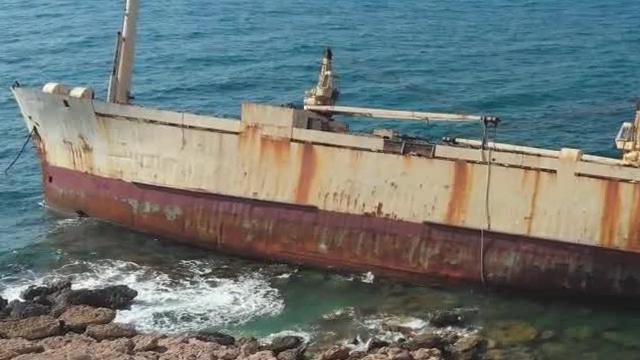rust: (204, 215, 486, 282), (230, 112, 328, 206), (14, 121, 106, 215), (436, 147, 490, 258), (595, 165, 640, 249), (514, 153, 545, 249)
